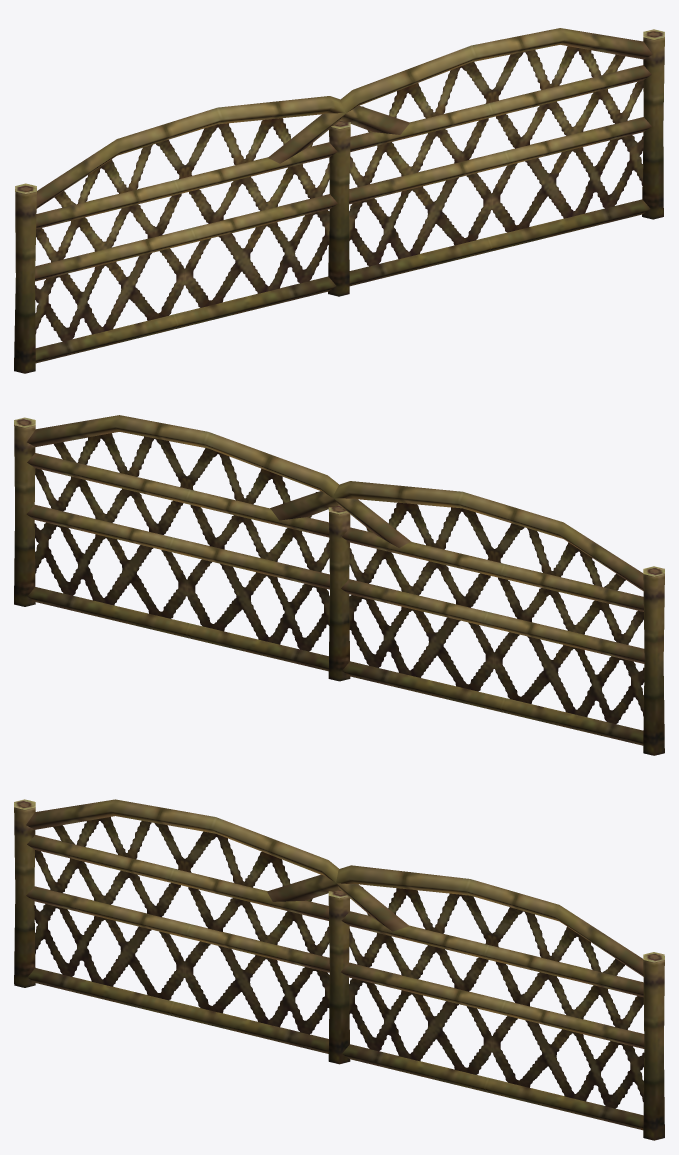
The model's file is zhalan05_qt.FBX.
3 renders of one model, top to bottom at view 1: azimuth 30°, elevation 25°; view 2: azimuth 150°, elevation 25°; view 3: azimuth 330°, elevation 25°, orthographic.
Visible parts, largest first — view 1: DrawCall_29; view 2: DrawCall_29; view 3: DrawCall_29.
Part boxes in pixels (<box>): DrawCall_29: <box>14,28,664,373</box>; DrawCall_29: <box>14,415,664,755</box>; DrawCall_29: <box>14,799,664,1140</box>.
Size of the model in its own units: 208 by 65.56 by 7.96.
